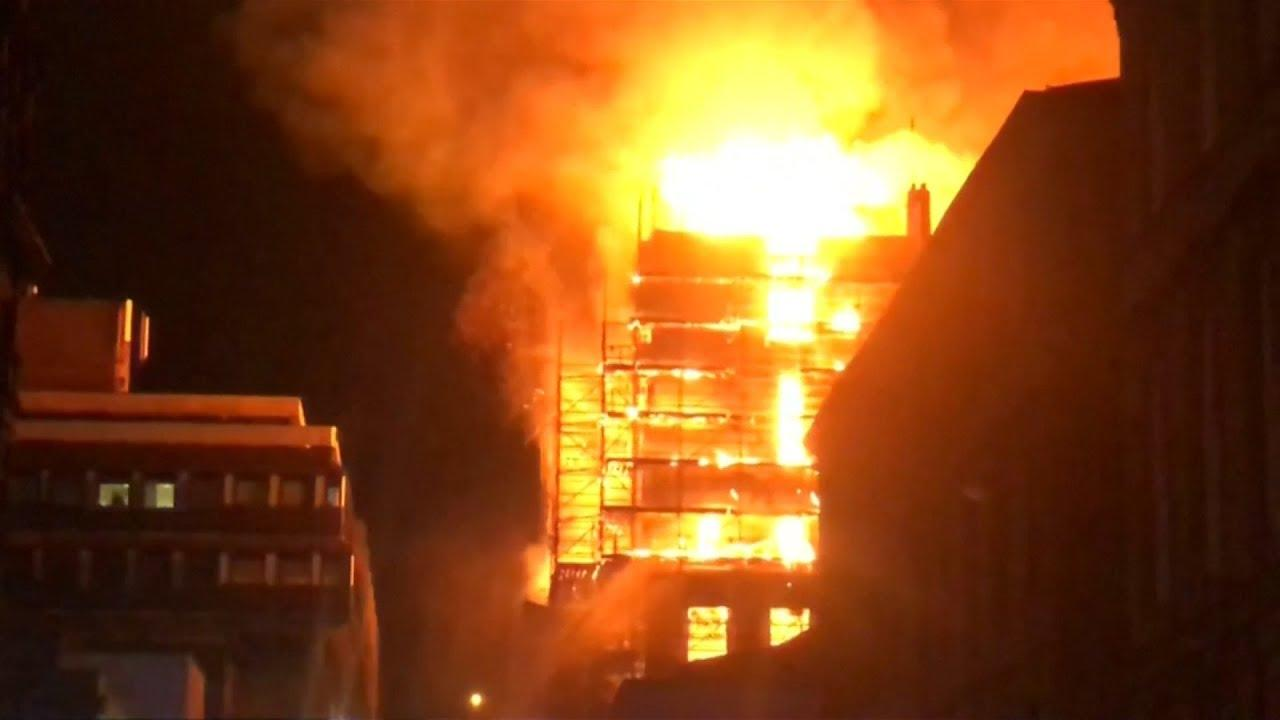Fire: (562, 82, 974, 591)
